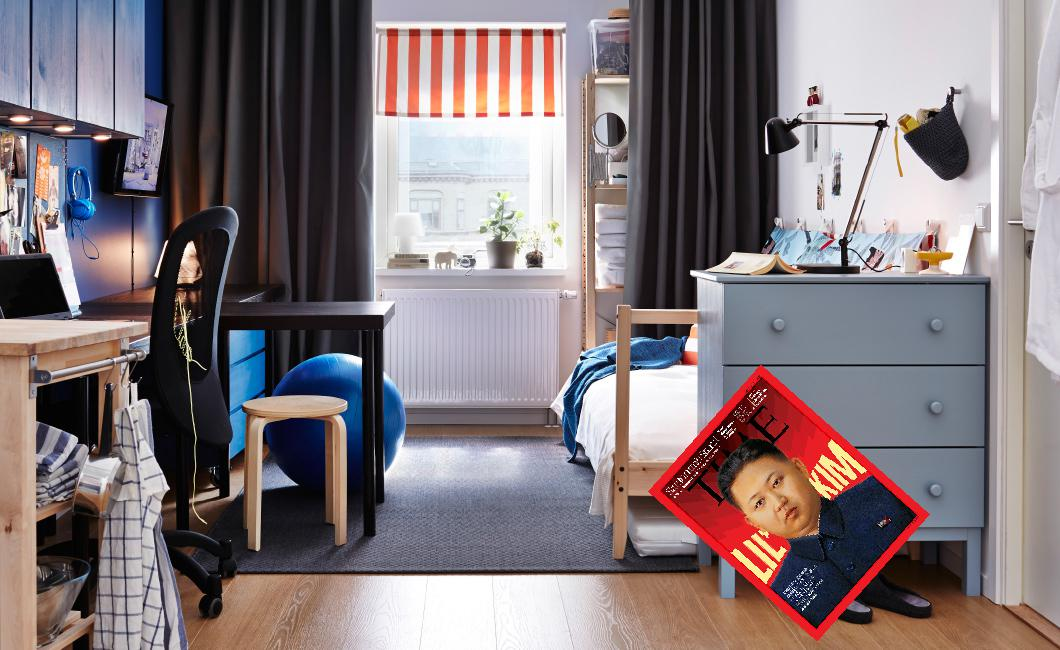times: (646, 360, 930, 642)
